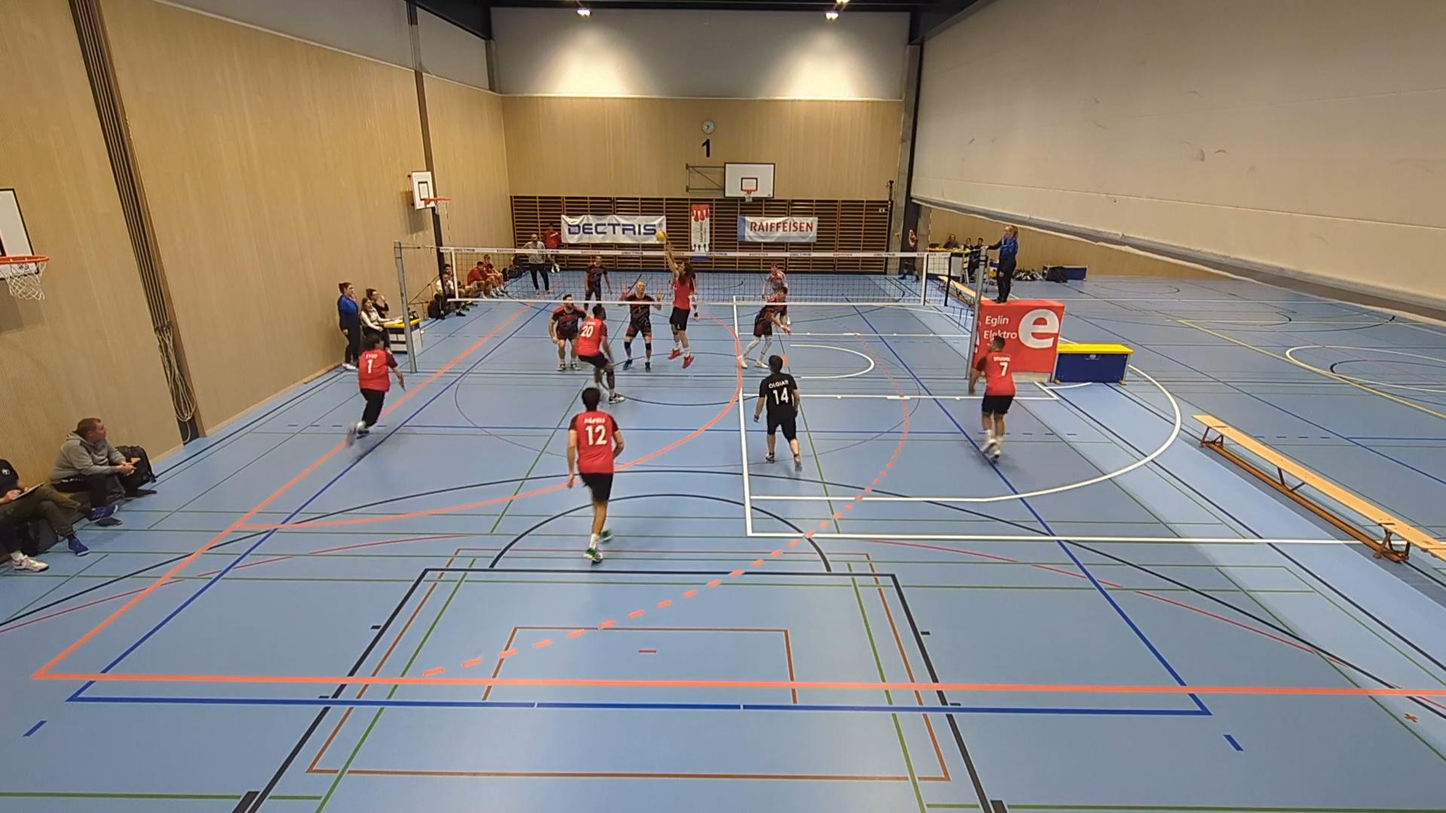alzata: (652, 239, 702, 361)
